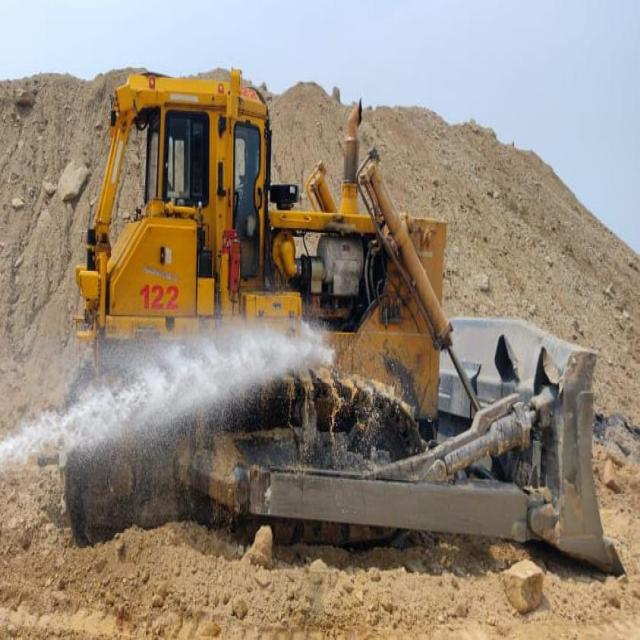buldozerpayloadergrader: (60, 68, 627, 558)
